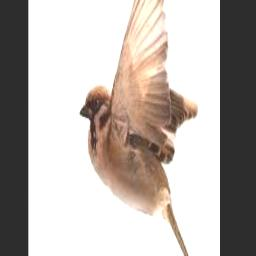Sparrow: (80, 0, 198, 256)
